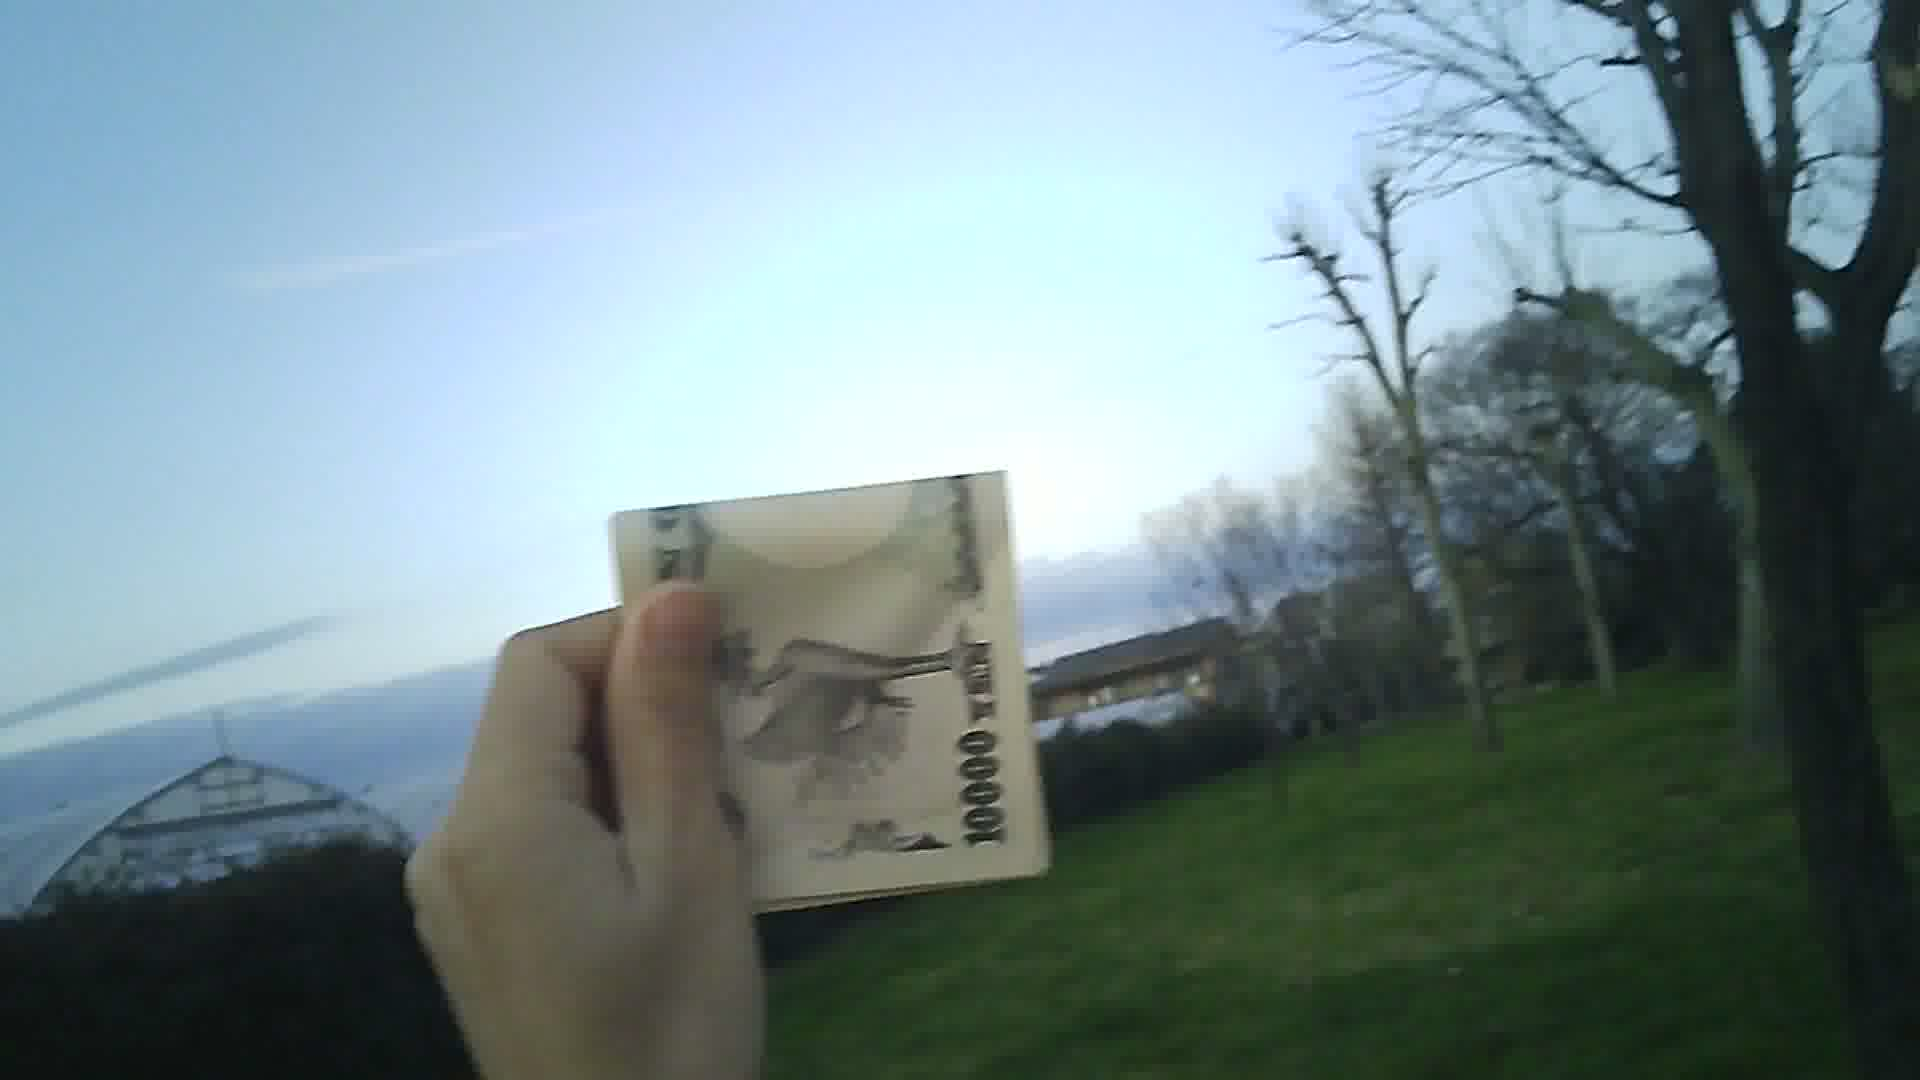10,000 Yen: (601, 456, 1100, 922)
